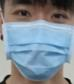with_mask: (2, 1, 74, 84)
